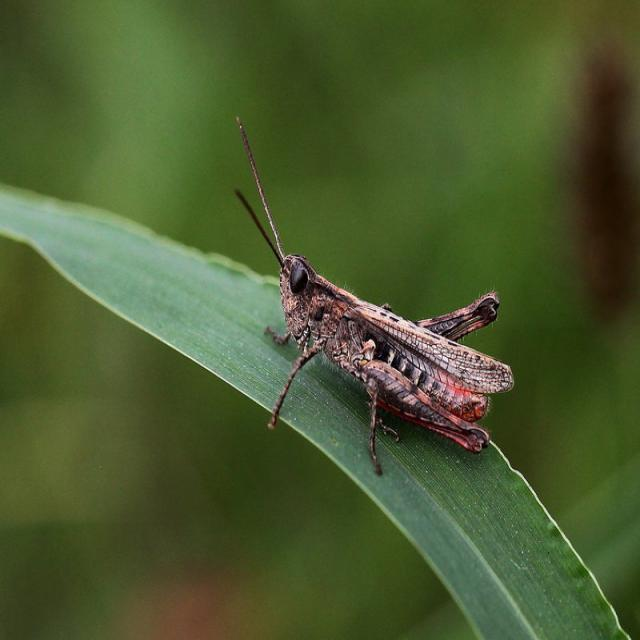ZhaMeng: (219, 130, 527, 476)
